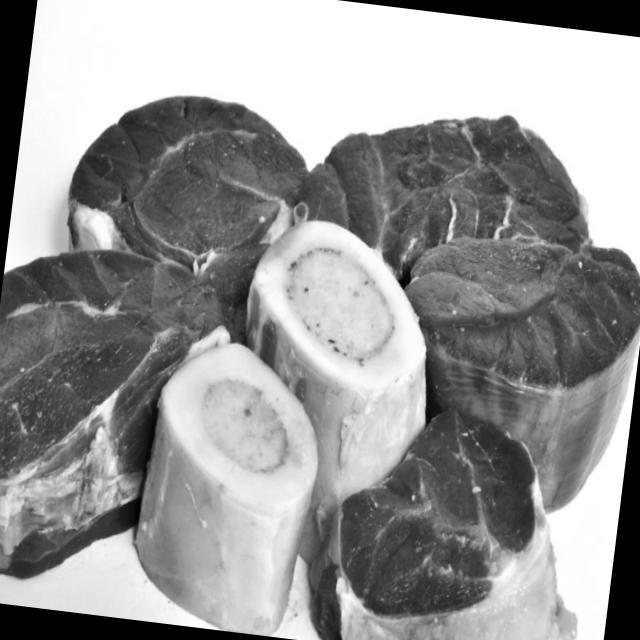chan gio: (0, 65, 640, 640)
